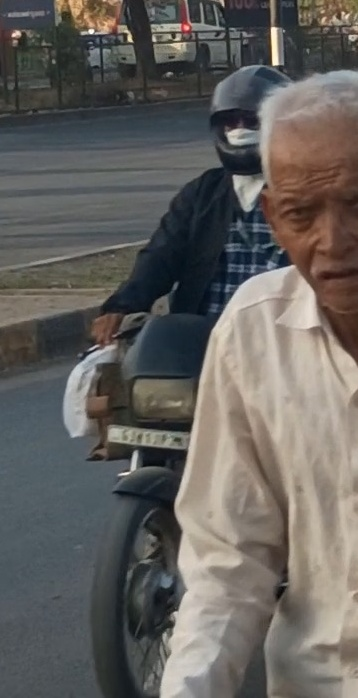BikeWithRider: (53, 55, 320, 698)
Helmet: (197, 56, 301, 181)
